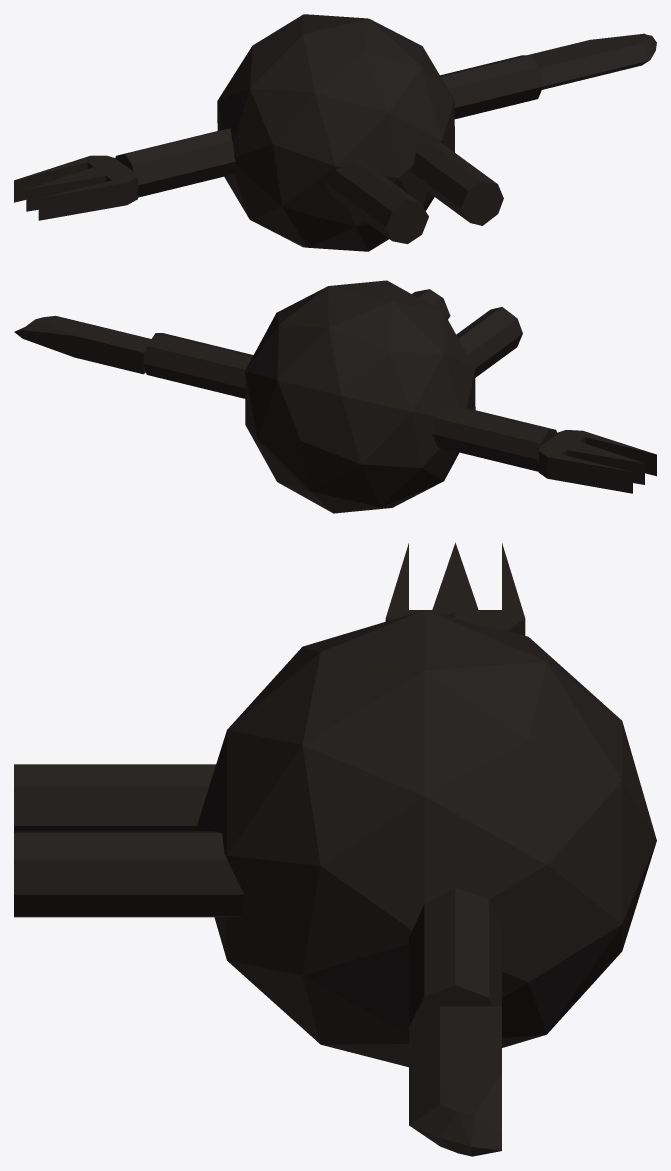
The model's file is eatman2_maya.fbx.
The picture shows the model from 3 angles, top to bottom: view 1: azimuth 30°, elevation 25°; view 2: azimuth 150°, elevation 25°; view 3: azimuth 270°, elevation 25°; orthographic projection. The views are drawn at different scales.
Parts seen in each view (by area): view 1: Cube.005; view 2: Cube.005; view 3: Cube.005.
Part boxes in pixels (left/top/right/bottom): Cube.005: left=14, top=14, right=656, bottom=251; Cube.005: left=14, top=280, right=656, bottom=513; Cube.005: left=14, top=542, right=656, bottom=1156.
Bounding box in the file's own units: 299 × 95.11 × 138.
